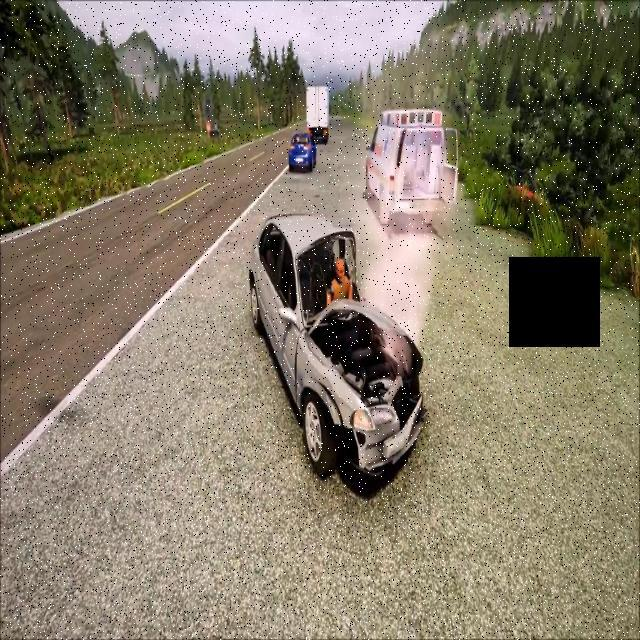severe: (244, 210, 432, 490)
